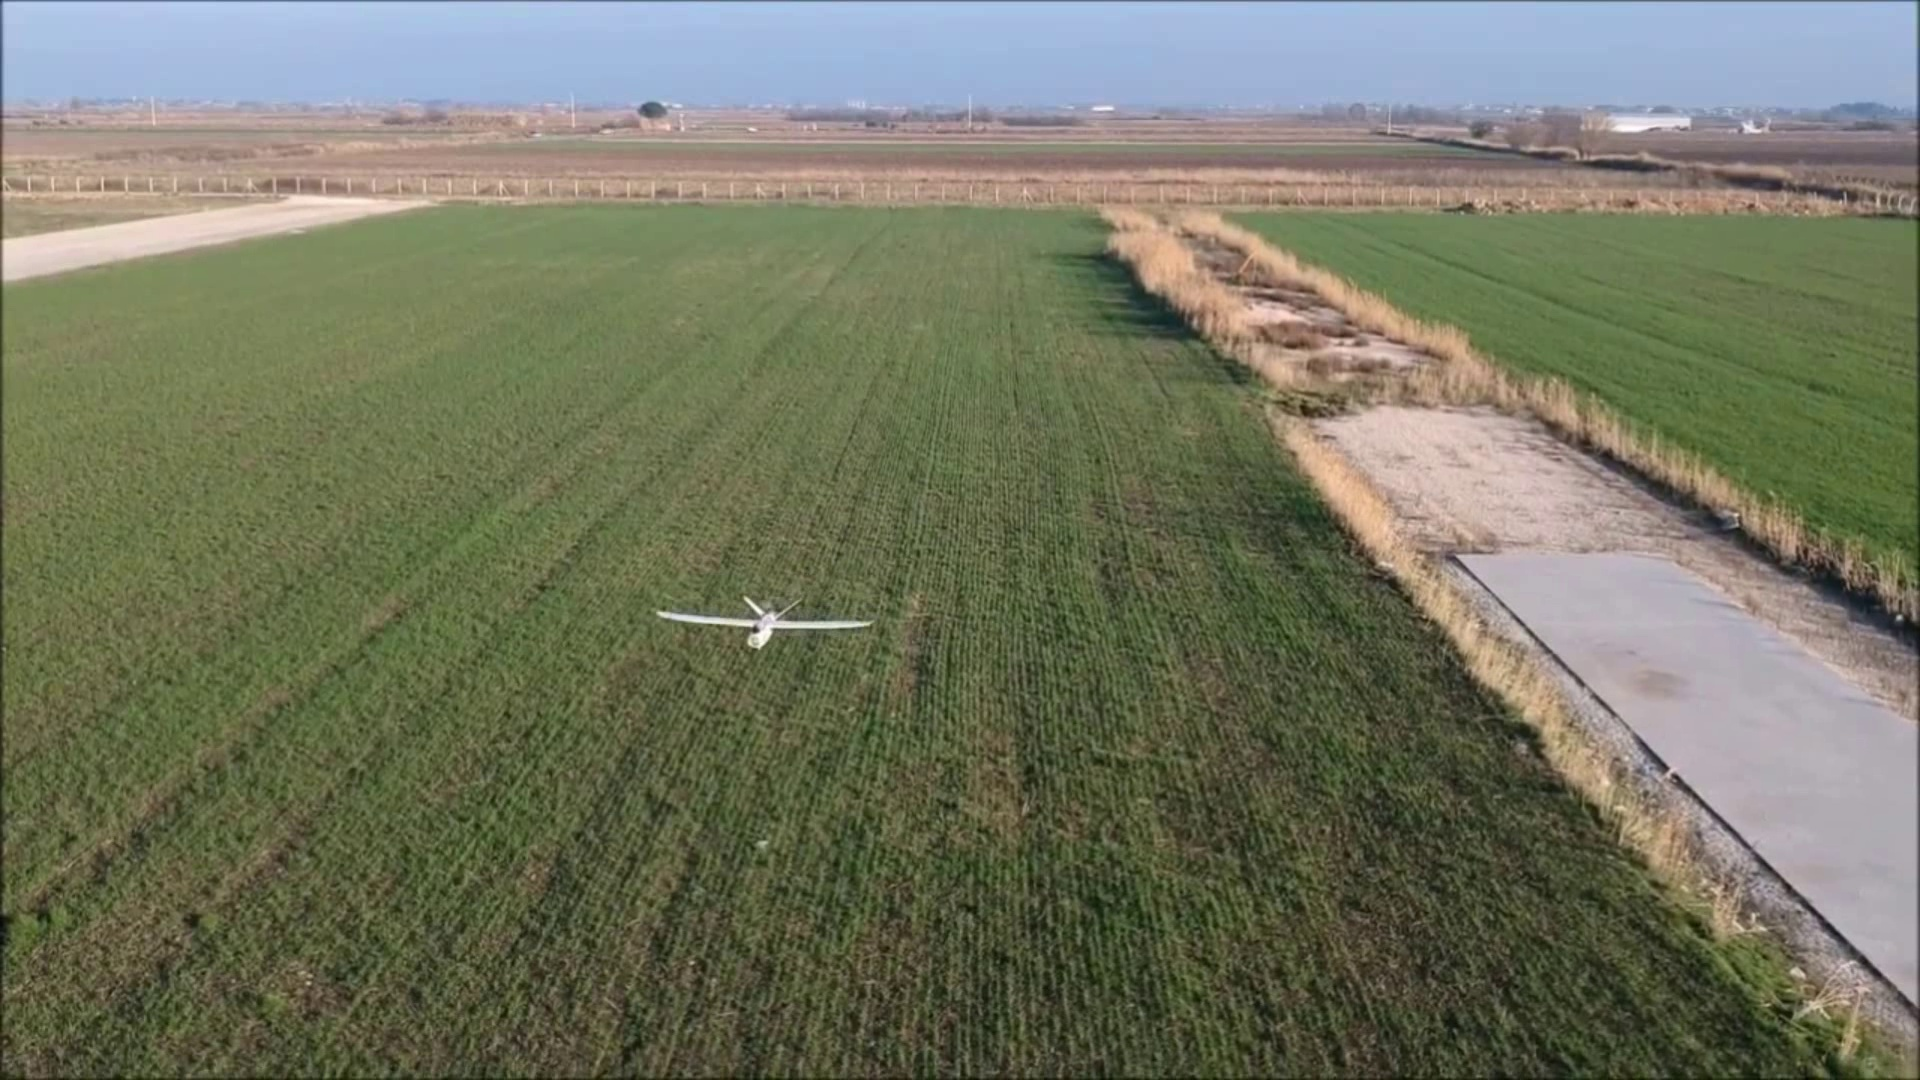airplane: (654, 599, 877, 648), (732, 599, 875, 648)
